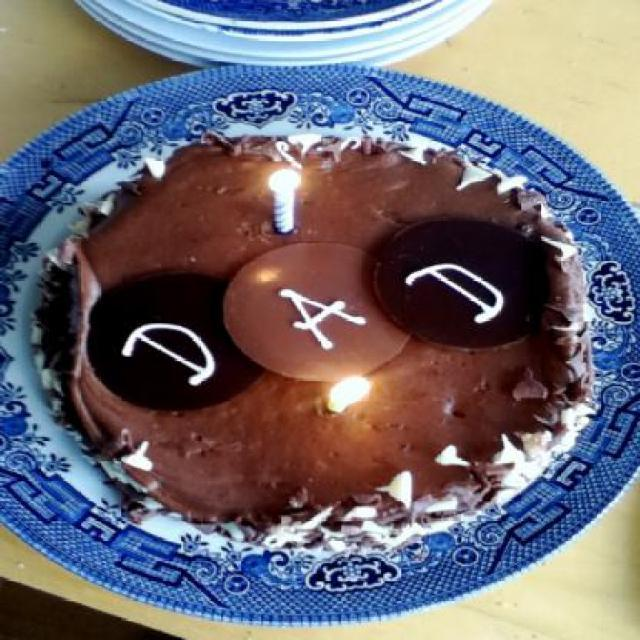Cake: (32, 132, 590, 550)
